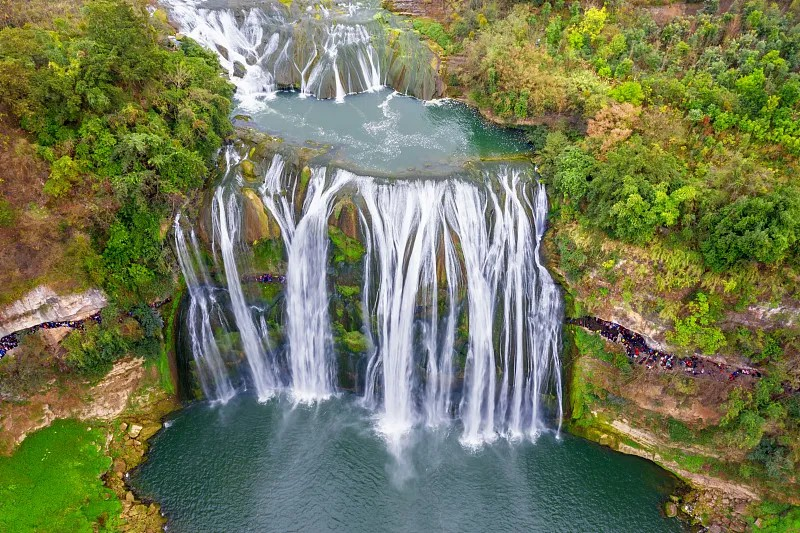Huangguoshu: (174, 141, 564, 441)
